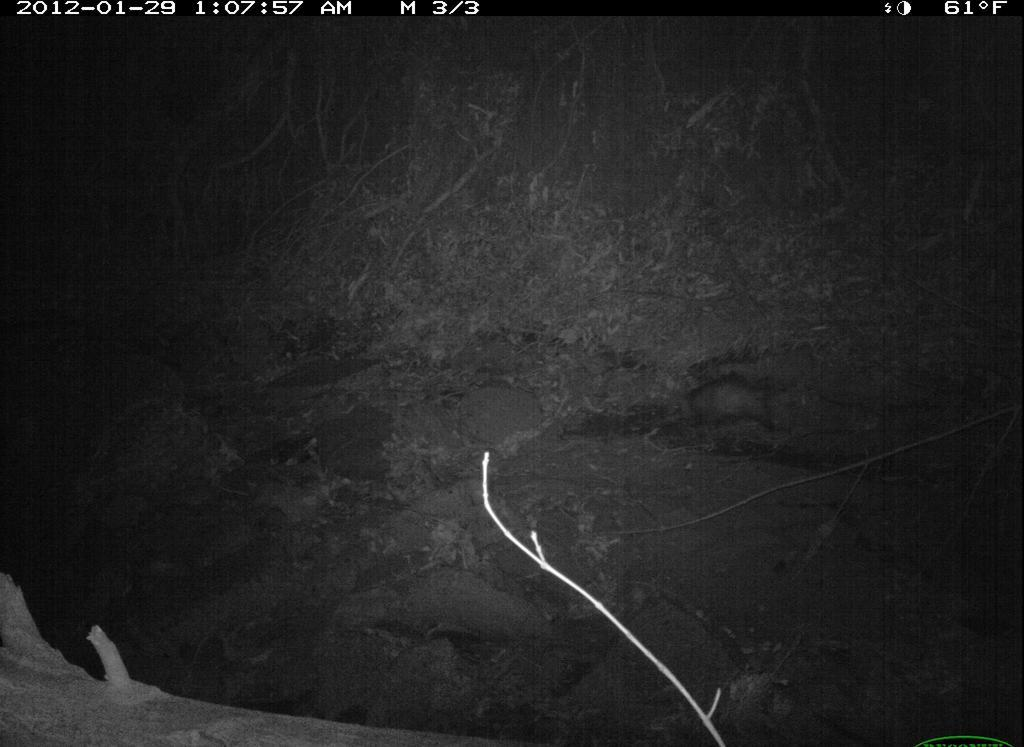opossum: (669, 363, 785, 438)
